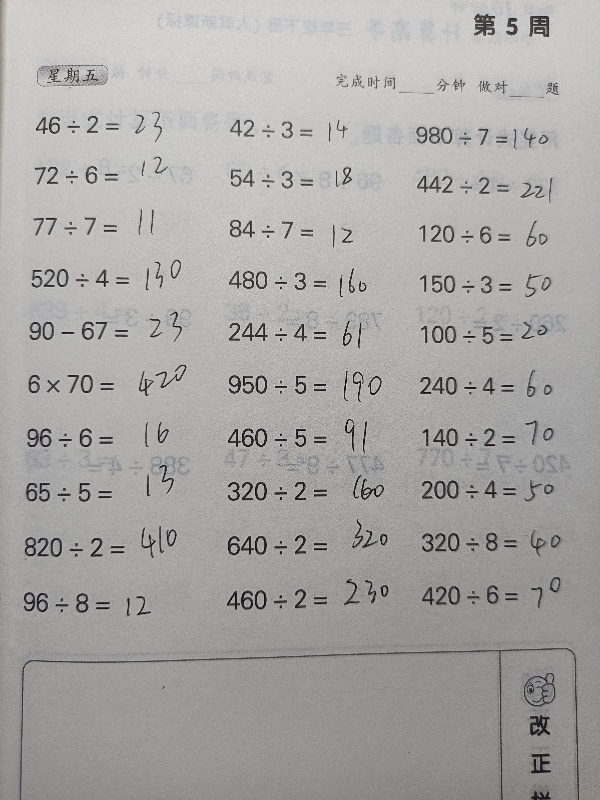equation: (219, 261, 399, 306), (411, 364, 591, 408), (412, 521, 592, 561), (413, 473, 593, 510), (14, 584, 194, 620), (15, 529, 195, 565), (411, 315, 591, 351), (407, 119, 587, 155), (217, 581, 397, 616), (412, 577, 592, 612), (218, 527, 398, 562), (17, 475, 197, 510), (219, 474, 399, 509), (19, 420, 199, 455), (220, 367, 400, 402), (22, 260, 202, 295), (219, 421, 399, 455), (20, 366, 200, 400), (221, 315, 401, 349), (21, 313, 201, 347), (412, 268, 592, 302), (410, 217, 590, 251), (221, 212, 401, 246), (221, 162, 401, 196), (27, 158, 207, 192), (221, 112, 401, 146), (414, 421, 594, 454), (26, 210, 206, 243), (408, 168, 588, 201), (26, 108, 206, 141)
